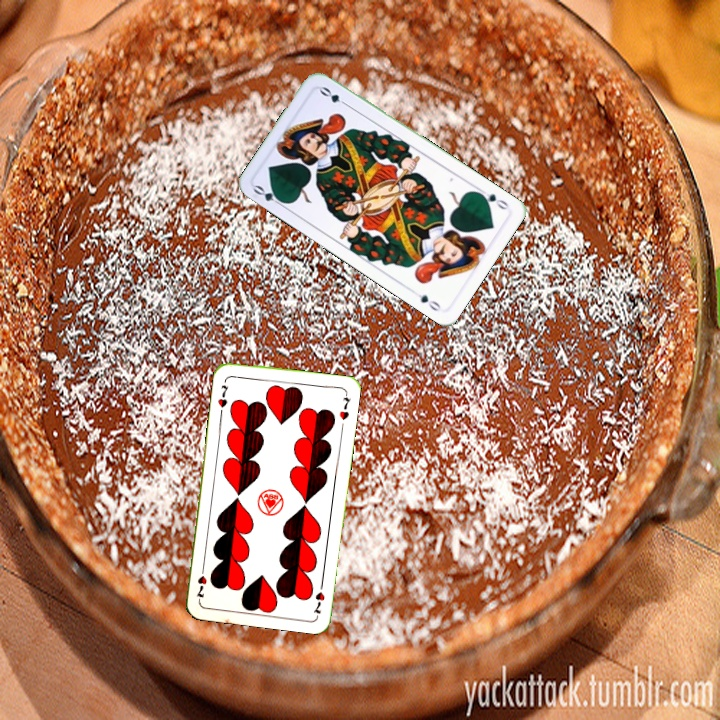GO: (249, 181, 288, 210), (474, 185, 511, 212)
H7: (310, 578, 327, 618), (214, 381, 232, 416)
